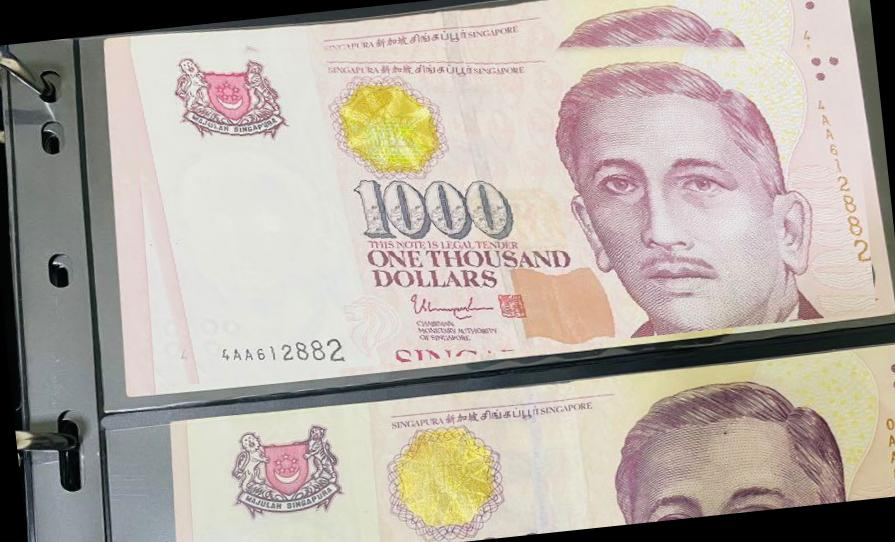1000SingaporeDollar: (106, 0, 876, 390)
